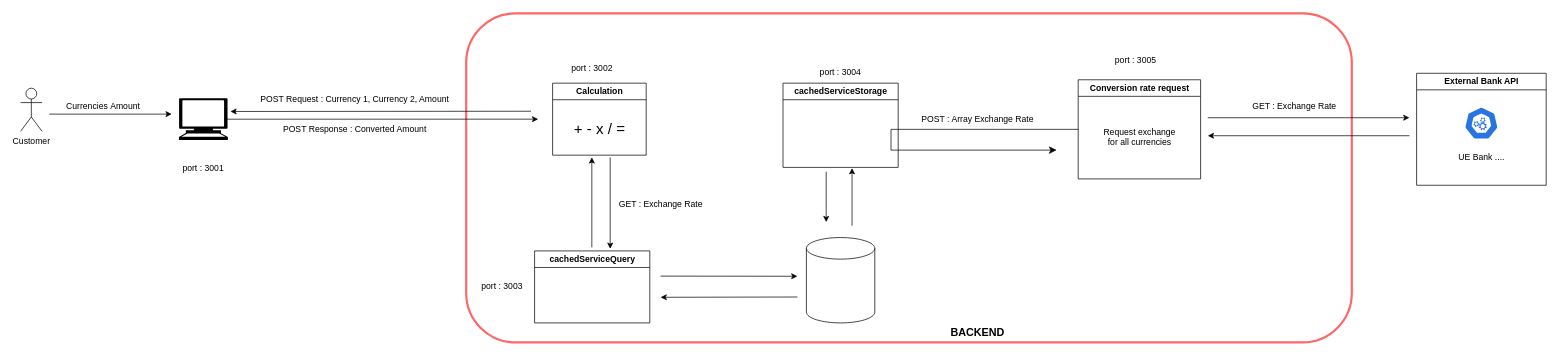
The diagram is 1559 pixels wide and 356 high, and some of its shapes have lost their labels. The shapes that lost their labels are listed below. From the top down, each one's centre as x and y in pixels, then its label:
(x=203, y=119): Frontend / UI
(x=840, y=280): cachedStorage
